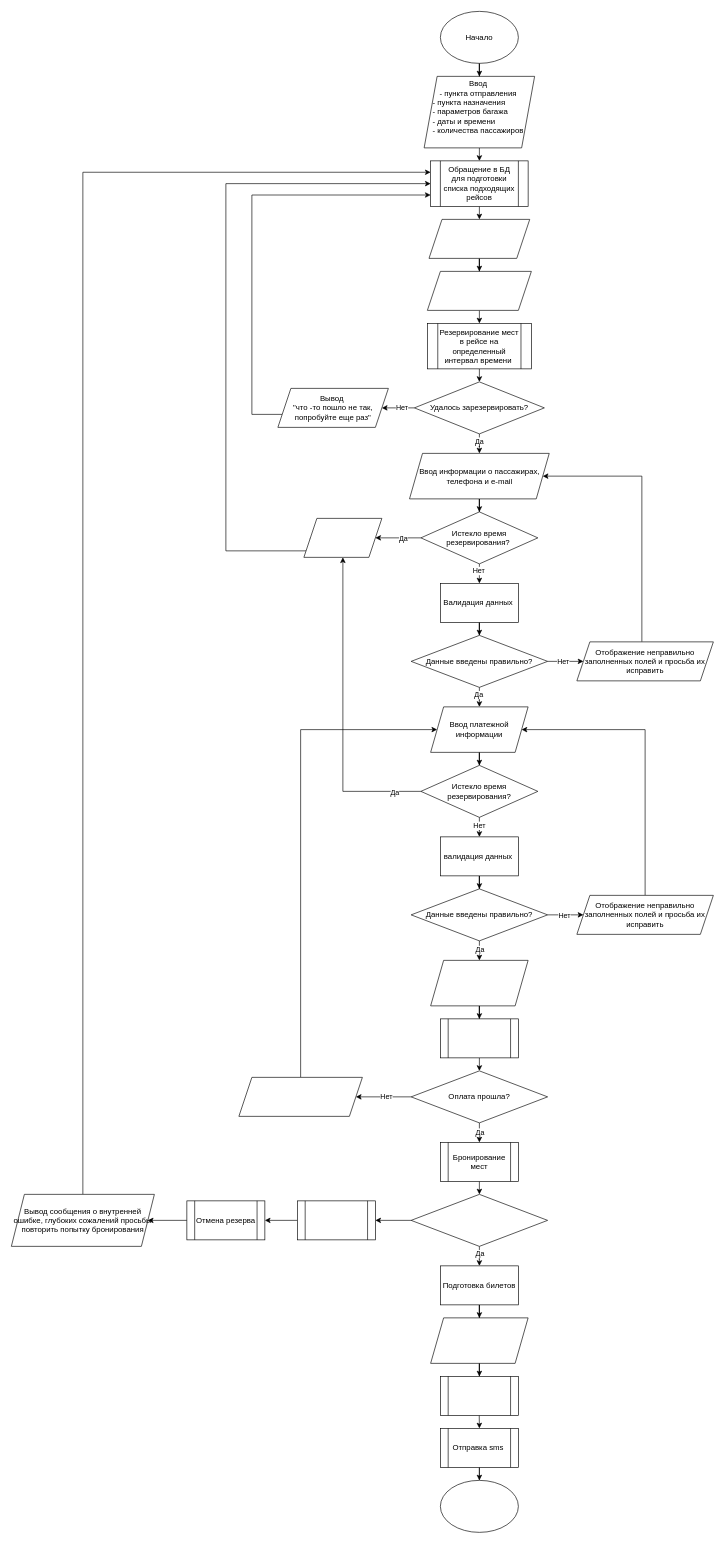
Some shapes in this 725 by 1544 pixel diagram are drawn without their labels. Each missing label, with the centre of its shape:
Бронирование выполнено: (x=479, y=1220)
Выбор рейса из предложенного списка и начало процесса оформления: (x=479, y=290)
Вывод "Время резерва истекло": (x=342, y=537)
Вывод информации о купленных билетах и предложение и скачать: (x=479, y=1340)
Вывод подходящих рейсов: (x=479, y=238)
Вывод причины и просьба повторить: (x=300, y=1096)
Конец: (x=479, y=1506)
Отмена оплаты: (x=336, y=1220)
Отправка билетов по e-mail: (x=479, y=1395)
Подтверждение бронирования и оплата: (x=479, y=983)
Подтверждение оплаты: (x=479, y=1038)
